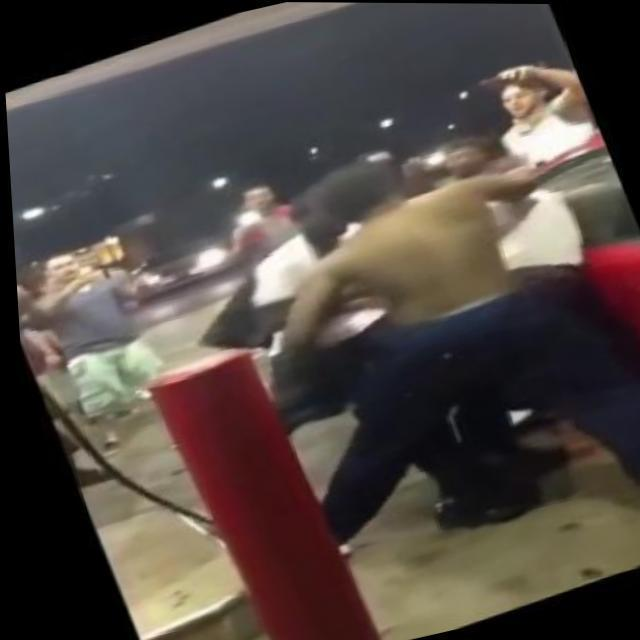fight: (203, 91, 640, 536)
